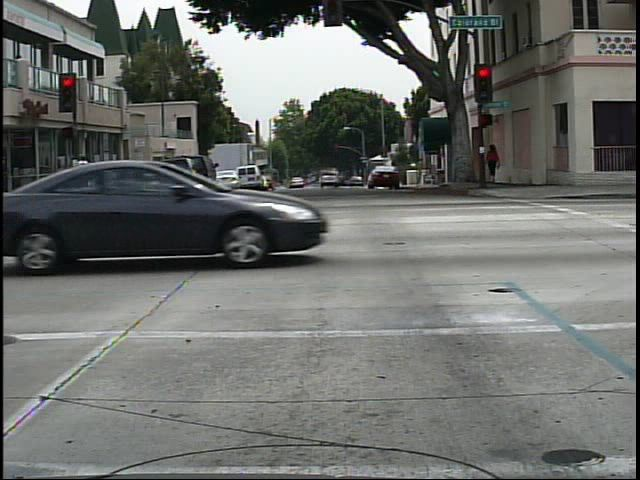person: (70, 147, 99, 209), (486, 138, 504, 192)
